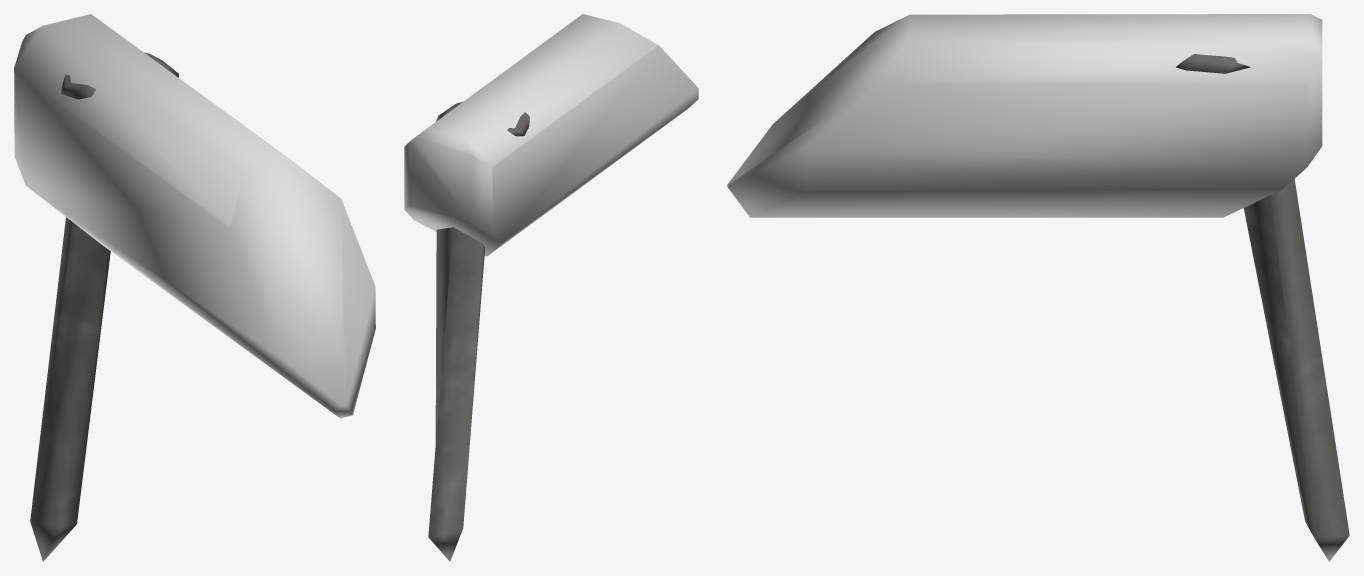
The model's file is SM_Nail_A_v2_.fbx.
3 renders of one model, left to right at view 1: azimuth 30°, elevation 25°; view 2: azimuth 150°, elevation 25°; view 3: azimuth 270°, elevation 25°, orthographic. The views are drawn at different scales.
Parts seen in each view (by area): view 1: SM_Nail_A_v2__ConvexHulls, SM_Nail_A_v2_; view 2: SM_Nail_A_v2__ConvexHulls, SM_Nail_A_v2_; view 3: SM_Nail_A_v2__ConvexHulls, SM_Nail_A_v2_.
Part boxes in pixels (x1,y1,x2,y2): SM_Nail_A_v2__ConvexHulls: (14, 14, 375, 418); SM_Nail_A_v2_: (30, 52, 178, 561); SM_Nail_A_v2__ConvexHulls: (404, 14, 698, 256); SM_Nail_A_v2_: (428, 101, 529, 561); SM_Nail_A_v2__ConvexHulls: (727, 14, 1322, 217); SM_Nail_A_v2_: (1176, 54, 1349, 561).
Bounding box in the file's own units: 0.0382 × 0.1763 × 0.1831.
